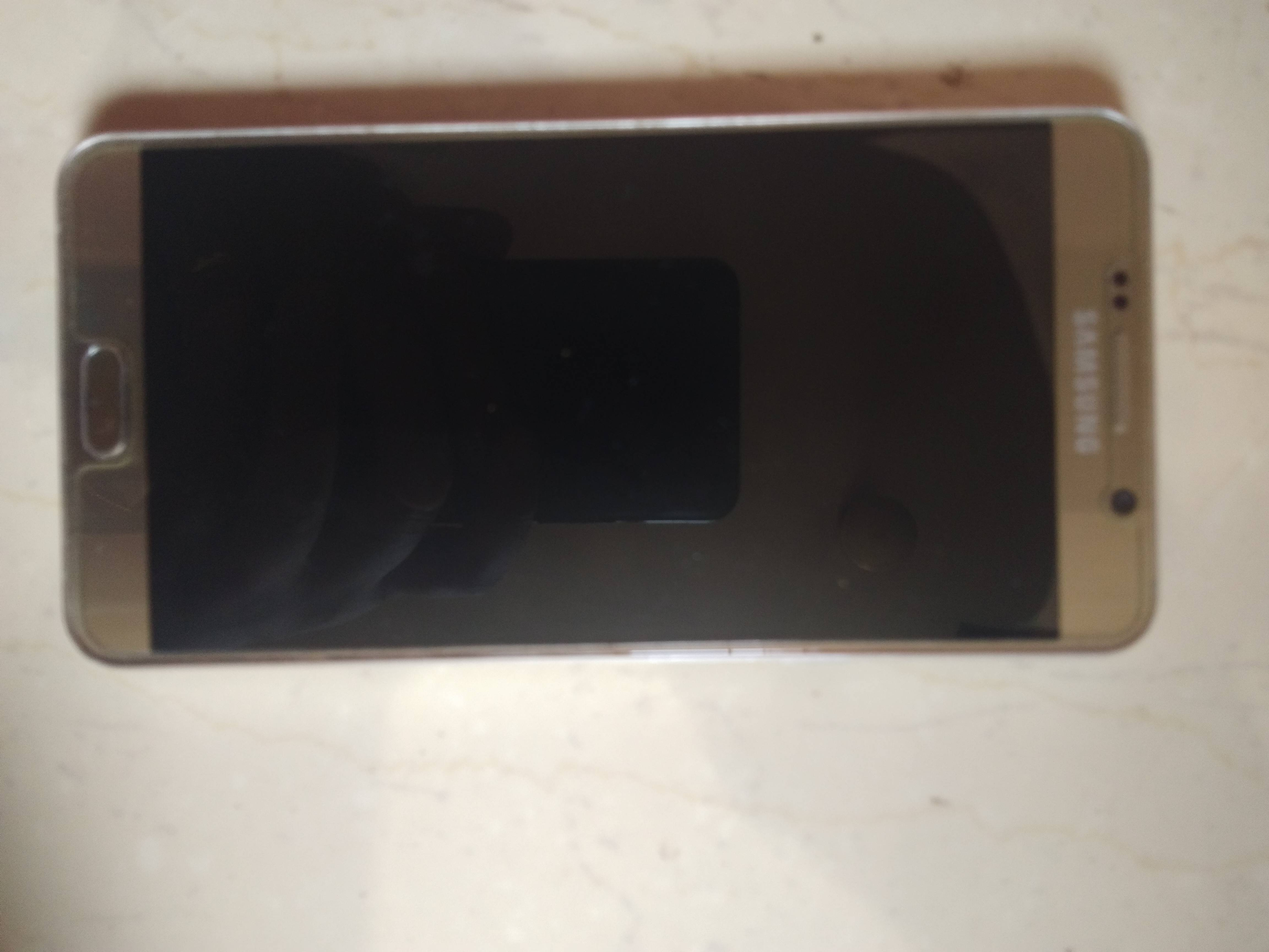Electronics: (42, 77, 1182, 697)
